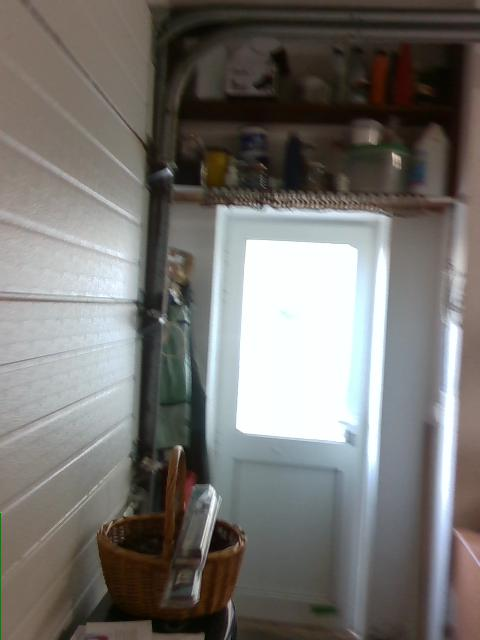door: (212, 203, 392, 639)
